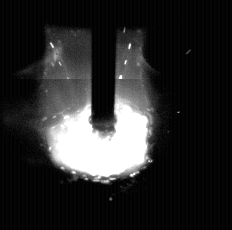arame: (93, 0, 116, 140)
poca: (46, 0, 151, 230)
